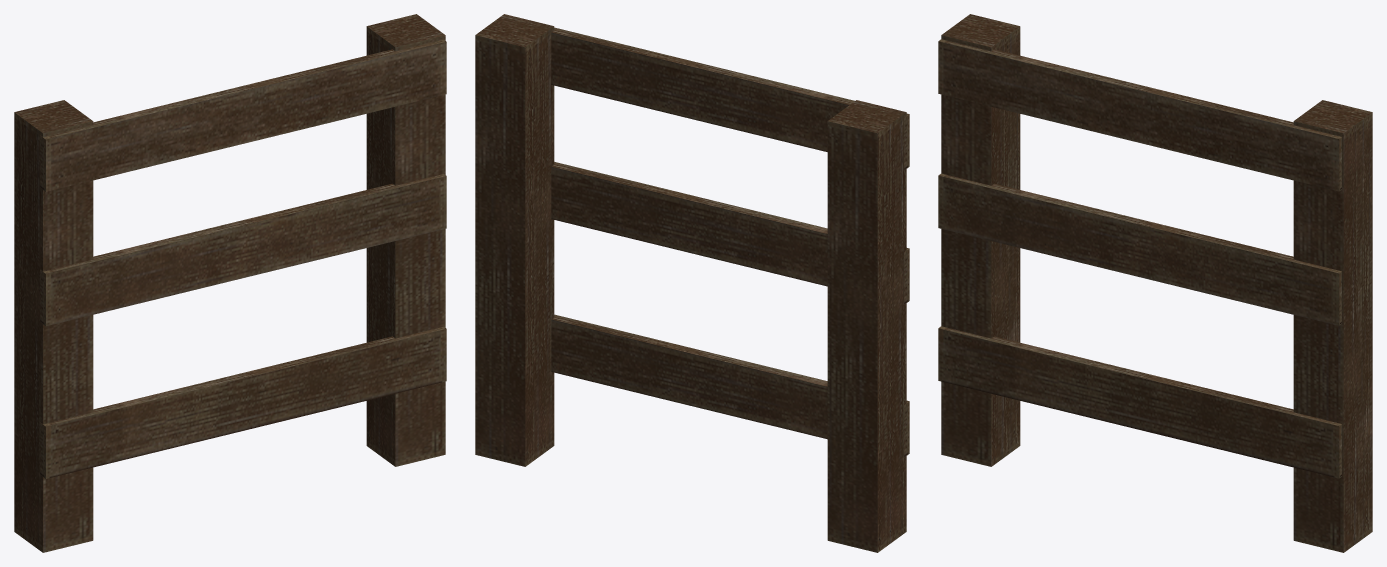
The model's file is SM_TI_Wood_1_Panel_2.fbx.
3 views of the same model, side by side, from view 1: azimuth 30°, elevation 25°; view 2: azimuth 150°, elevation 25°; view 3: azimuth 330°, elevation 25° (orthographic).
Visible parts, largest first — view 1: SM_TI_Wood_1_Panel_2; view 2: SM_TI_Wood_1_Panel_2; view 3: SM_TI_Wood_1_Panel_2.
Boxes of the visible parts, <box> form: SM_TI_Wood_1_Panel_2: <box>14,14,446,552</box>; SM_TI_Wood_1_Panel_2: <box>475,14,909,552</box>; SM_TI_Wood_1_Panel_2: <box>938,14,1372,552</box>.
Bounding box in the file's own units: 4.02 × 0.5499 × 4.
